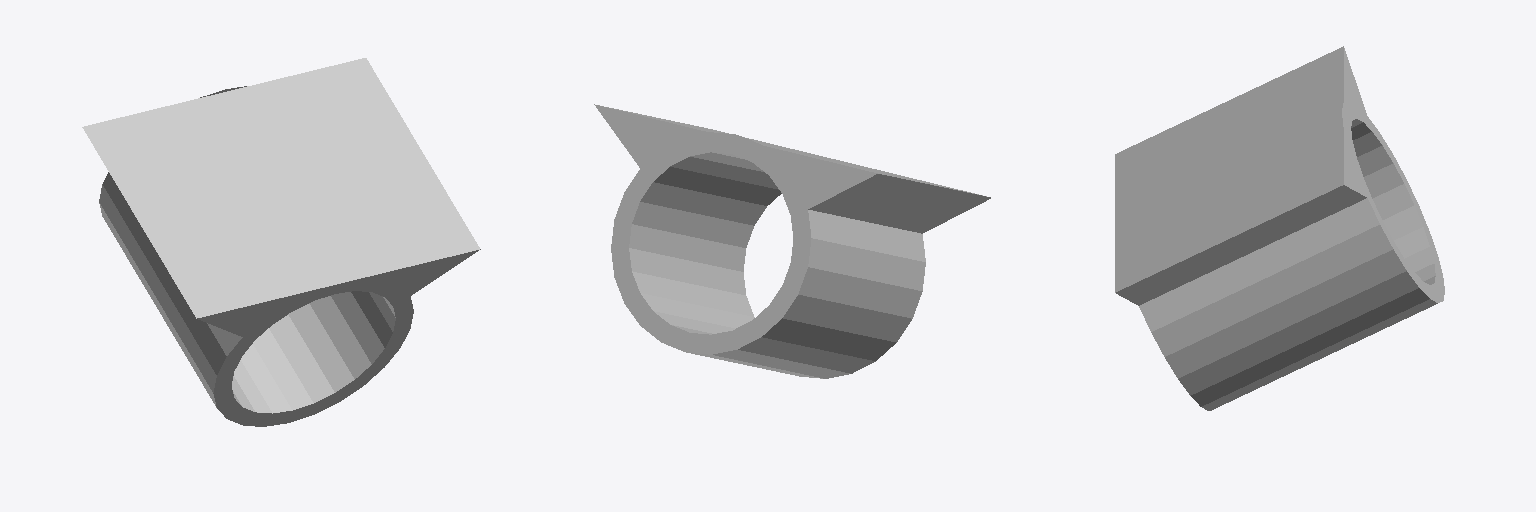
File: original-45.obj
3 renders of one model, left to right at view 1: azimuth 30°, elevation 25°; view 2: azimuth 150°, elevation 25°; view 3: azimuth 270°, elevation 25°, orthographic.
Visible parts, largest first — view 1: Group_54_1/Group_54/mesh44/mesh44-geometry#mesh44-geometry; view 2: Group_54_1/Group_54/mesh44/mesh44-geometry#mesh44-geometry; view 3: Group_54_1/Group_54/mesh44/mesh44-geometry#mesh44-geometry.
Boxes of the visible parts, x1,y1,x2,y2 form: Group_54_1/Group_54/mesh44/mesh44-geometry#mesh44-geometry: [82, 58, 480, 426]; Group_54_1/Group_54/mesh44/mesh44-geometry#mesh44-geometry: [594, 104, 990, 378]; Group_54_1/Group_54/mesh44/mesh44-geometry#mesh44-geometry: [1115, 46, 1444, 410].
Bounding box in the file's own units: 0.0551 × 0.0533 × 0.0554.